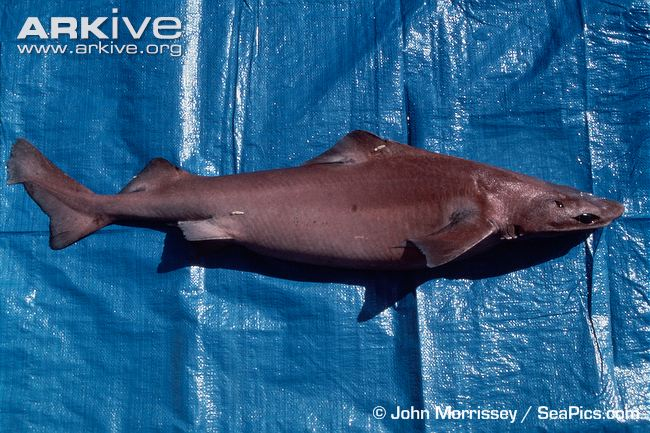shark: (9, 98, 631, 316)
